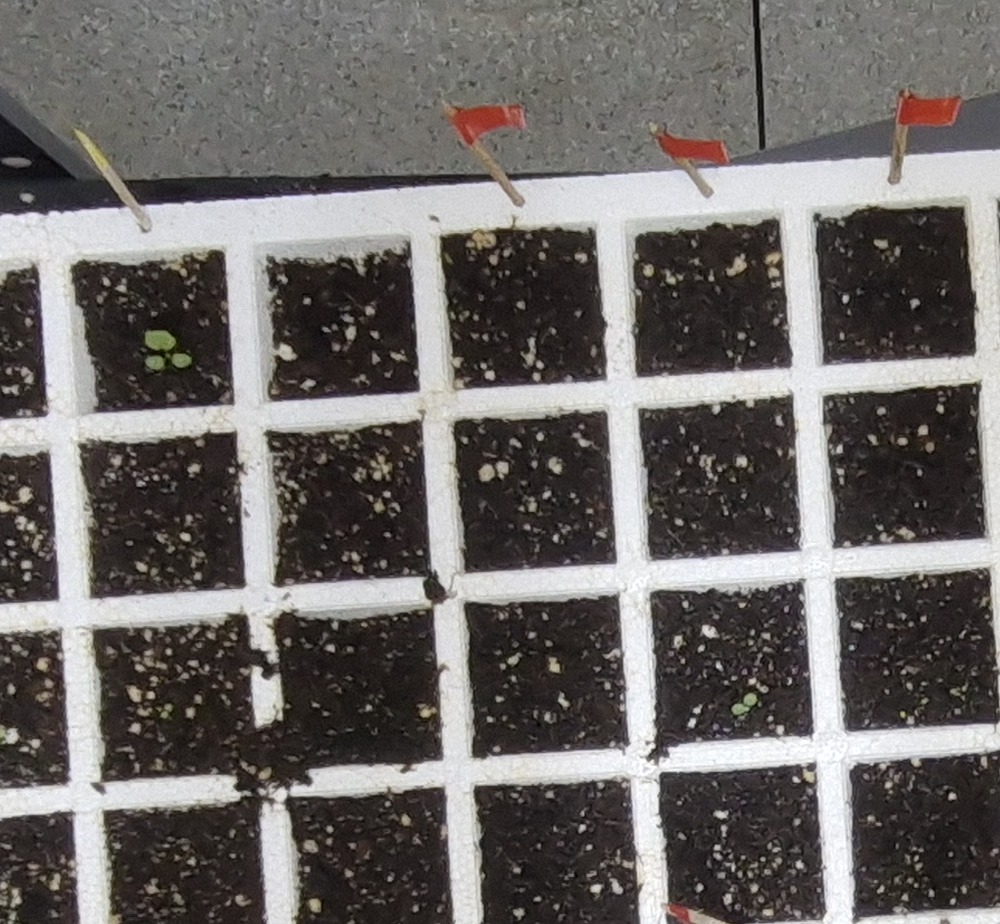Folha: (146, 331, 175, 349), (172, 355, 191, 366), (147, 356, 163, 369), (743, 694, 757, 706), (733, 705, 749, 715)
Germinacao: (145, 331, 192, 369), (730, 693, 757, 714), (160, 703, 173, 719), (0, 729, 6, 746)
